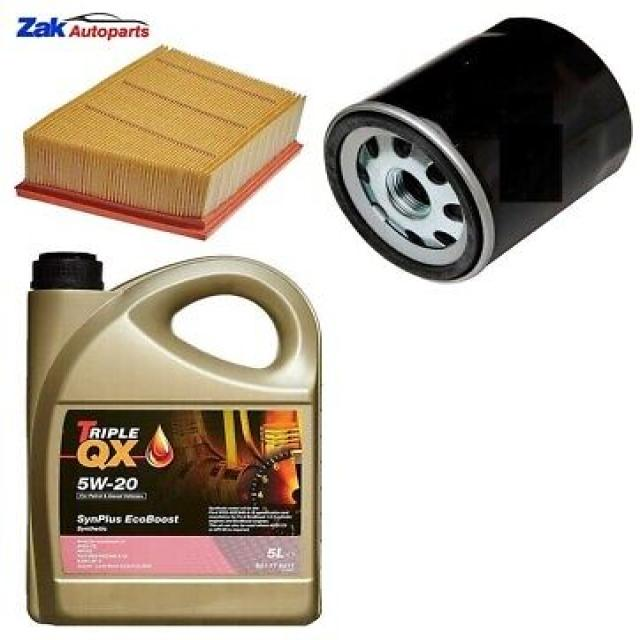air_filter: (9, 42, 306, 243)
motor_oil: (13, 248, 330, 634)
oil_filter: (318, 10, 638, 286)
